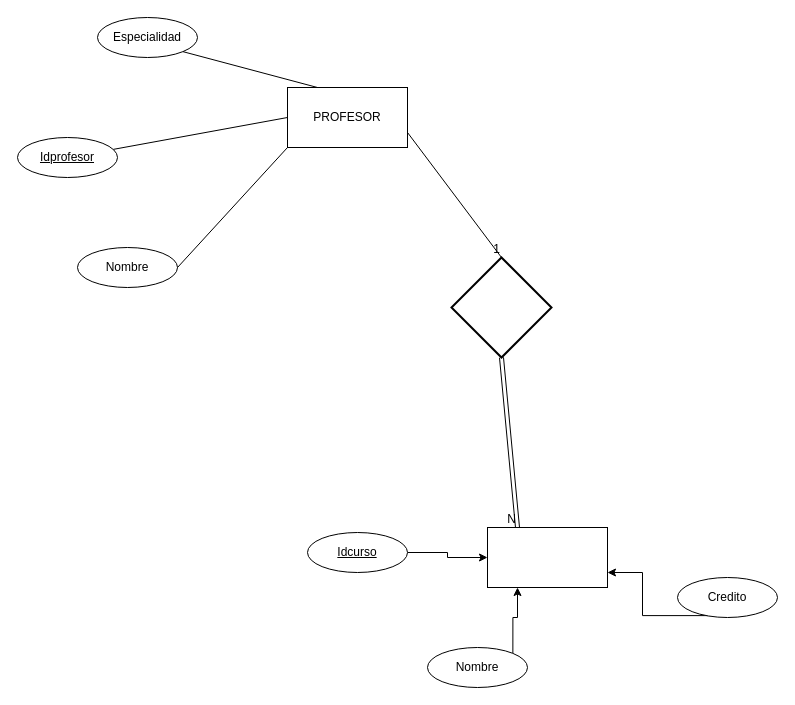
Some shapes in this 795 by 705 pixel diagram are drawn without their labels. Each missing label, with the centre of its shape:
CURSO: (x=547, y=557)
impartir: (x=501, y=307)
